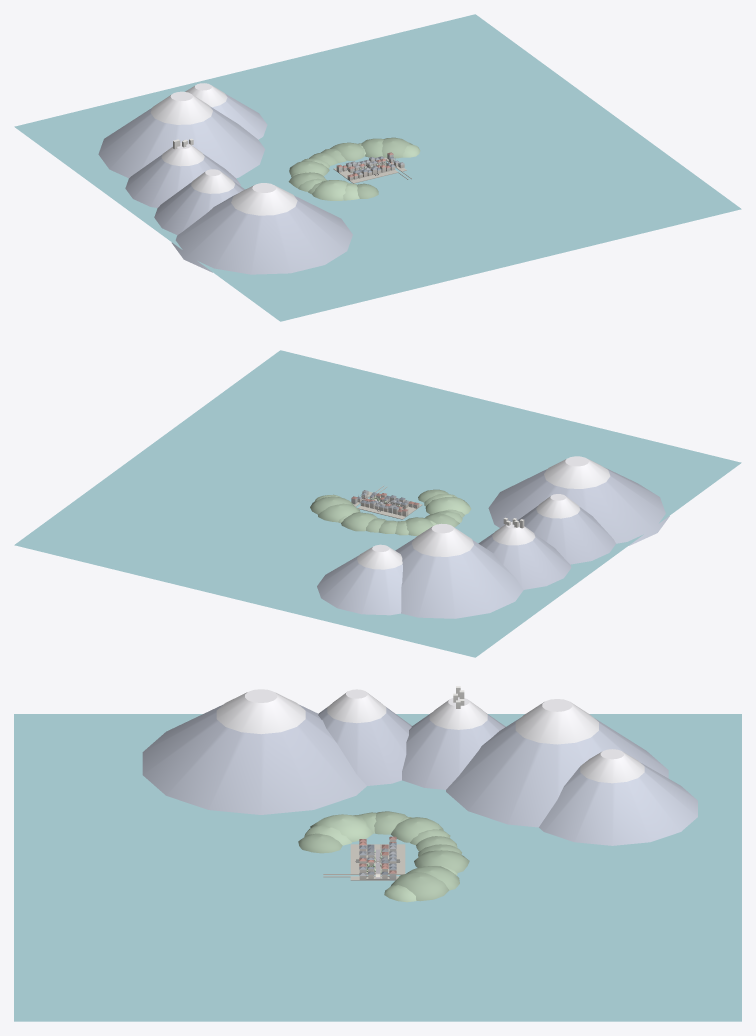
Rendered from city_street.glb.
3 renders of one model, top to bottom at view 1: azimuth 30°, elevation 25°; view 2: azimuth 150°, elevation 25°; view 3: azimuth 270°, elevation 25°, orthographic. The views are drawn at different scales.
Parts seen in each view (by area): view 1: water, far_mountains, far_hills, roofs; view 2: water, far_mountains, far_hills; view 3: water, far_mountains, far_hills, roofs, ground-col.
Boxes of the visible parts, x1,y1,x2,y2 form: water: (14,14,741,321); far_mountains: (98,83,352,274); far_hills: (288,137,420,200); roofs: (336,152,404,177); water: (14,350,741,657); far_mountains: (317,456,669,618); far_hills: (310,489,471,535); water: (14,714,741,1021); far_mountains: (142,689,697,845); far_hills: (298,811,469,902); roofs: (359,836,396,875); ground-col: (350,844,405,879).
Size of what is drawn, in the model's own units: 811 by 119 by 800.
